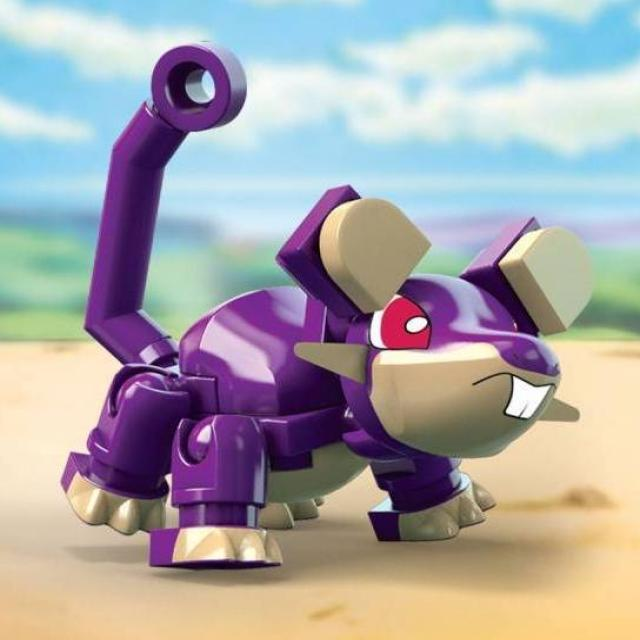Rattata: (71, 175, 598, 577)
